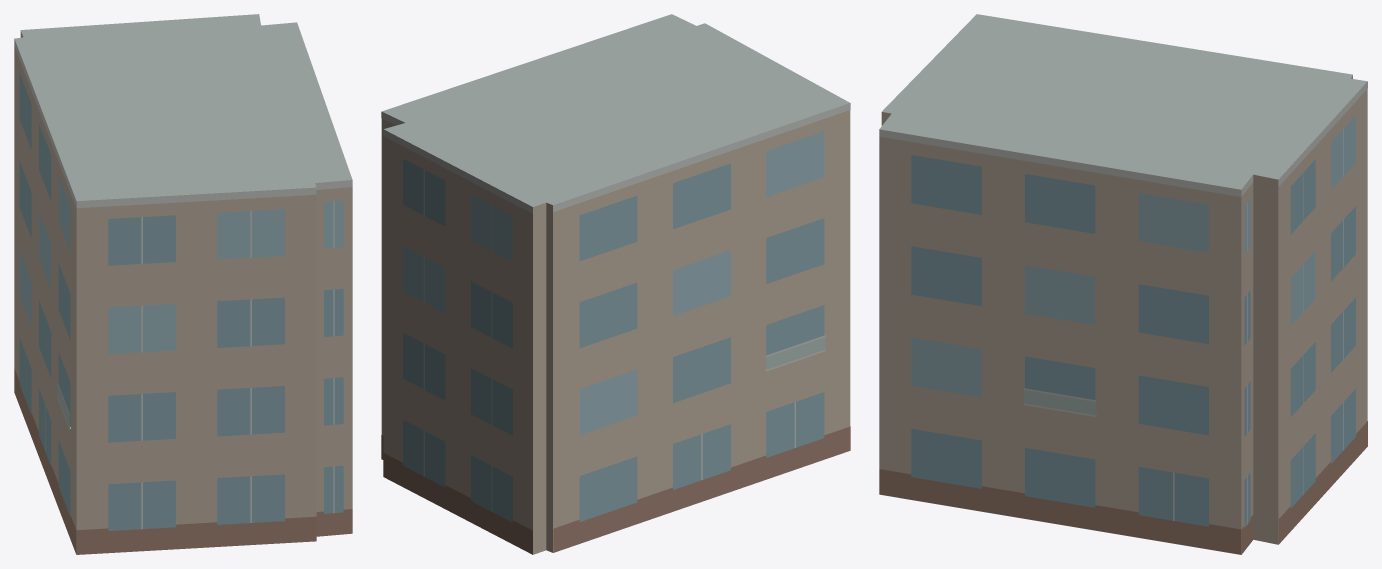
File: survey-upis-32670505.glb
The picture shows the model from 3 angles, left to right: view 1: azimuth 30°, elevation 25°; view 2: azimuth 150°, elevation 25°; view 3: azimuth 270°, elevation 25°; orthographic projection. The views are drawn at different scales.
Parts seen in each view (by area): view 1: survey-upis-32670505.tmp; view 2: survey-upis-32670505.tmp; view 3: survey-upis-32670505.tmp.
Boxes of the visible parts, box(x1,y1,x2,y2) form: survey-upis-32670505.tmp: box(14, 14, 352, 554); survey-upis-32670505.tmp: box(381, 14, 850, 554); survey-upis-32670505.tmp: box(879, 14, 1367, 554).
Size of the model in its own units: 12.6 by 12.2 by 14.8.
